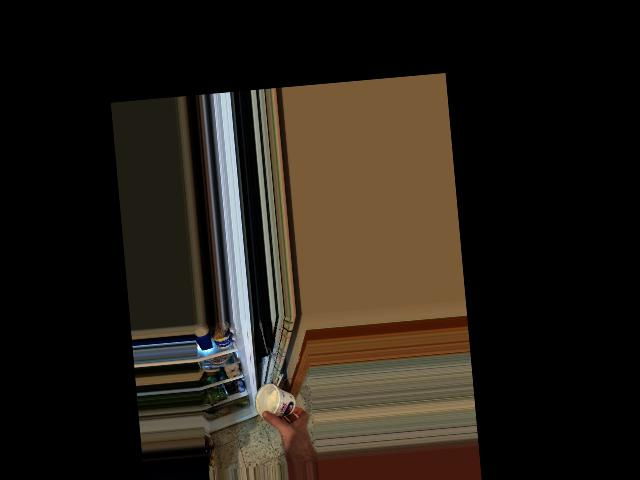cotage: (255, 384, 296, 419)
